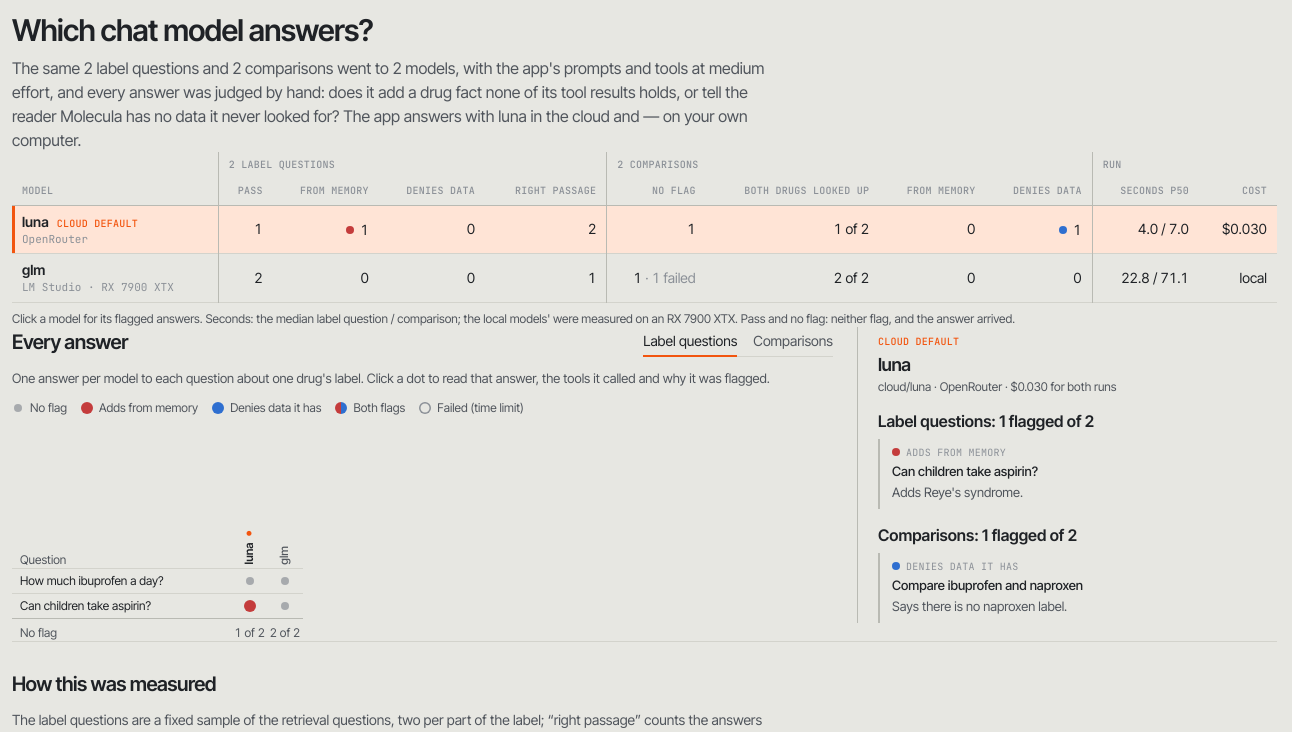
Scenario: ChatModelBenchmark › opens a flagged answer from a model's list, with its tools and its text
The width and height of the screenshot is (1292, 732).
What coordinates should you click on to do the following:
click the text "Can children take aspirin?" below "cloud/luna"
I would click on:
 (965, 472)
Its box is [892,462,1038,482].
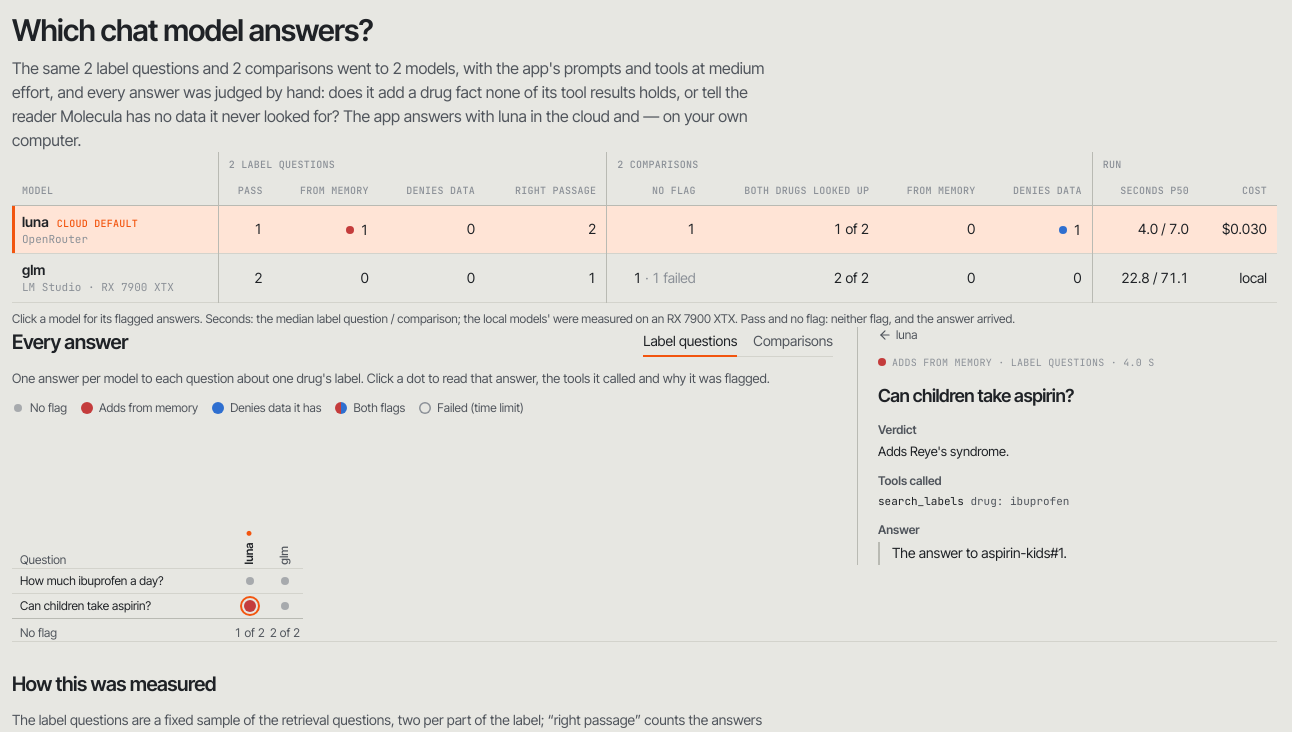
Check: the text "Adds Reye's syndrome." is shown, box [878,443,1009,459]
Check: the text "search_labels" is shown, box [878,494,964,508]
Check: the text "The answer to aspirin-kids#1." is shown, box [892,544,1067,561]
